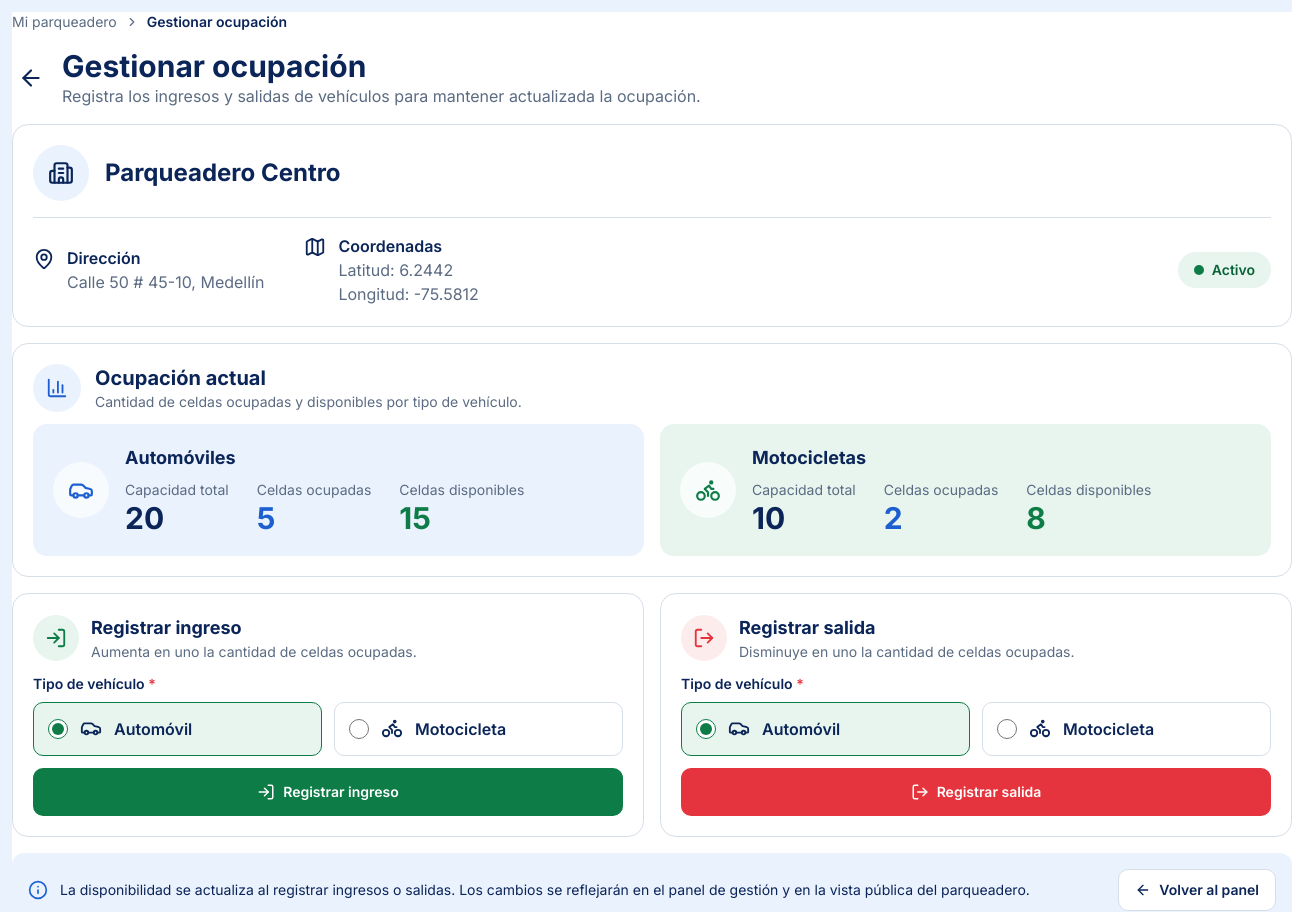
ManageOccupancy › una salida usa el tipo elegido en su propia tarjeta
Click the 2nd radio button labelled "Motocicleta" at (1007, 729), box [997, 719, 1017, 739]
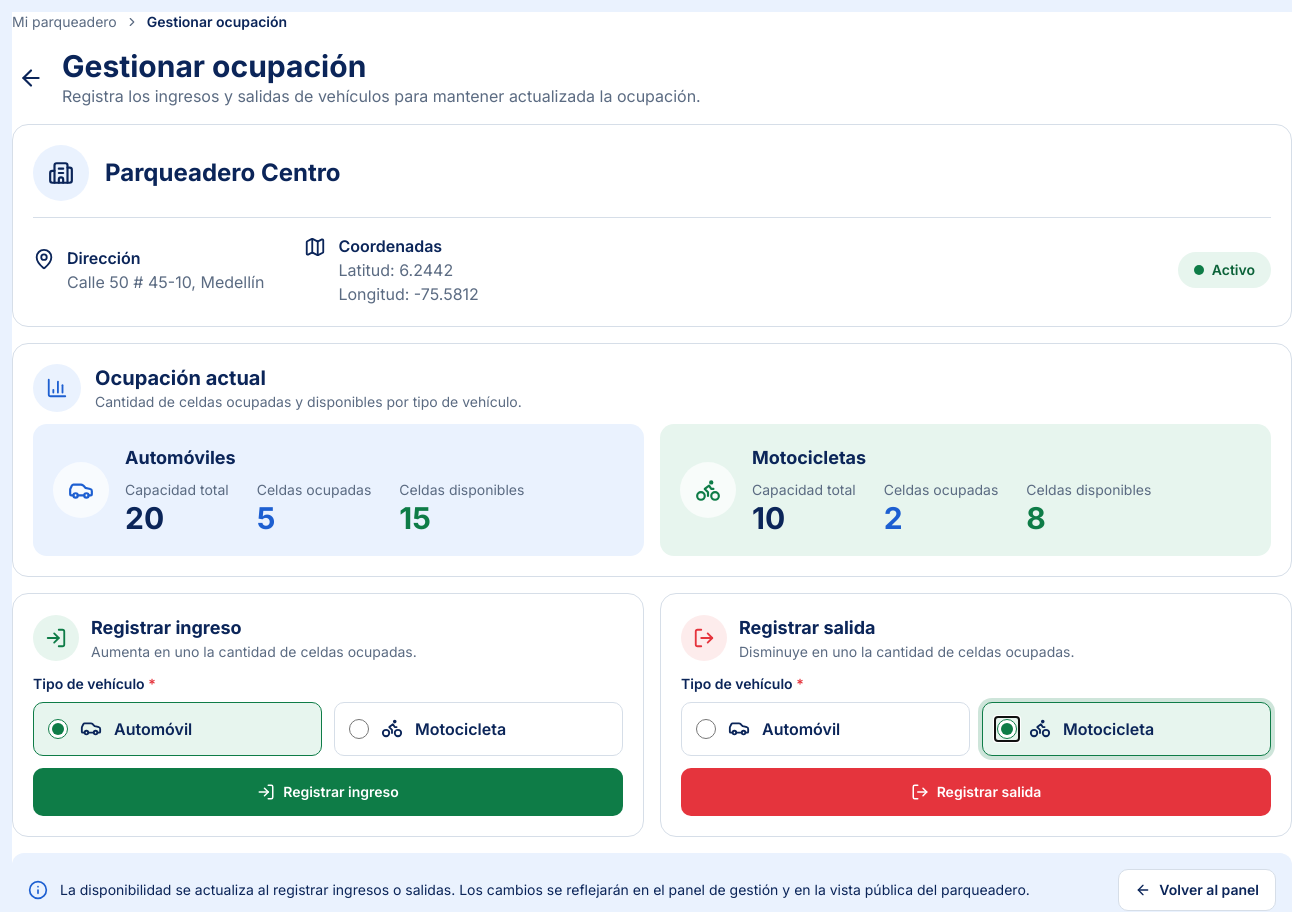
Click the button "Registrar salida" at (976, 792), box [681, 768, 1271, 816]
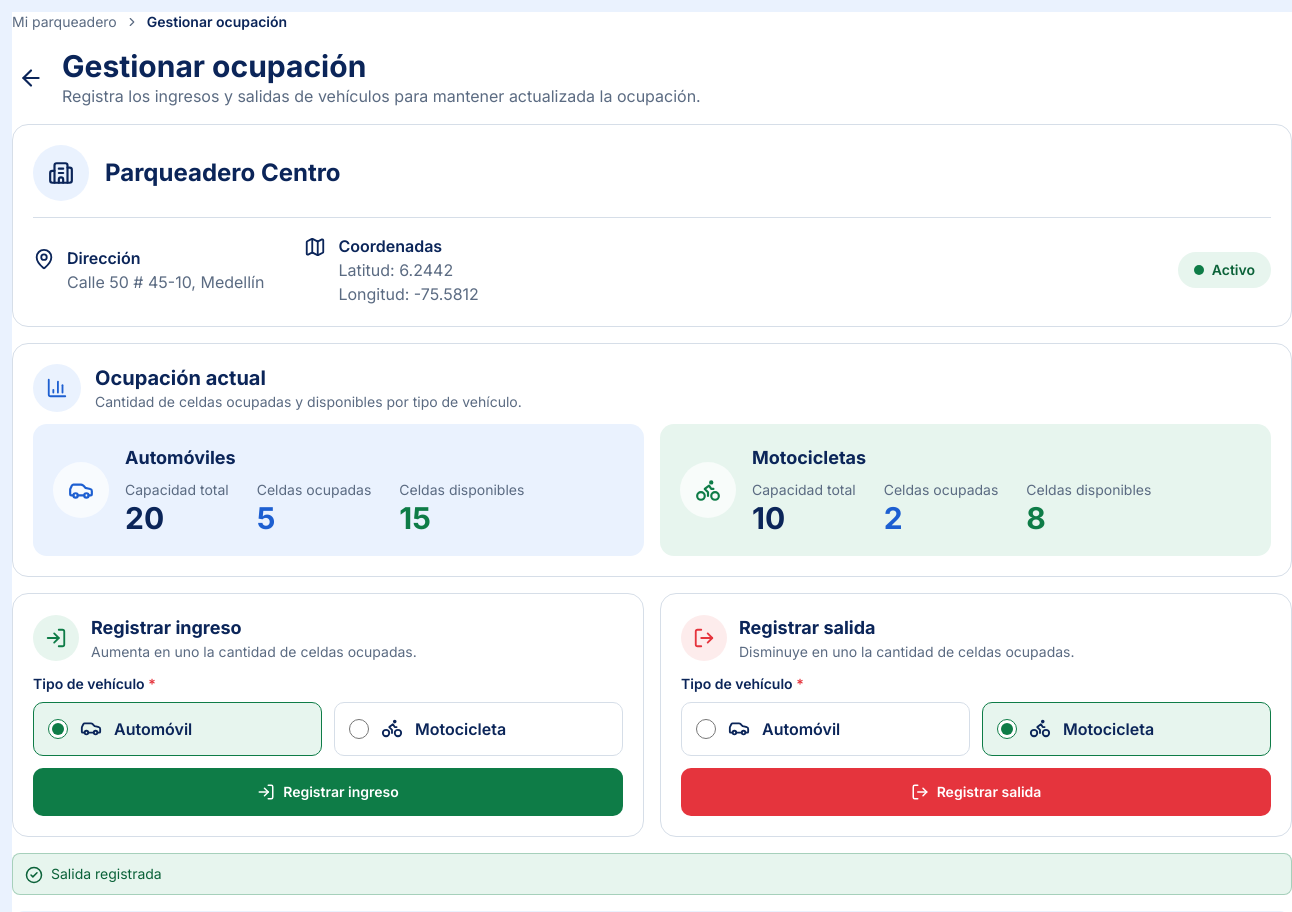
Result: the text "Salida registrada" is shown at [51, 864, 162, 884]
